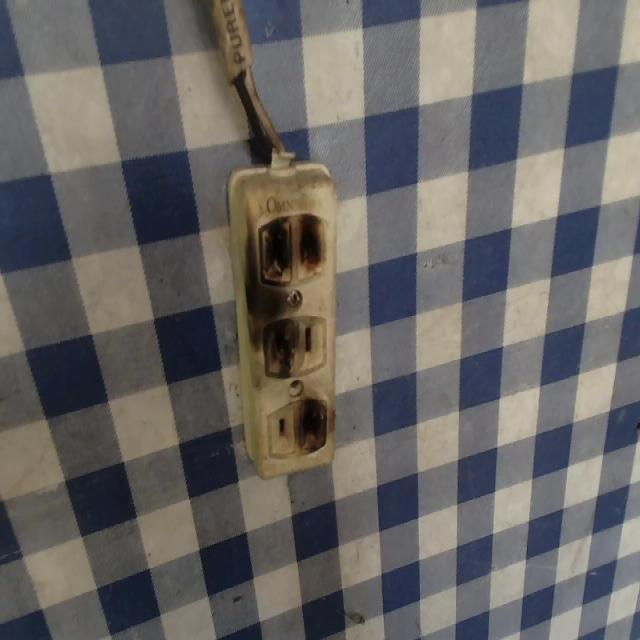-: (242, 203, 340, 301), (250, 315, 300, 388), (294, 387, 333, 462)
